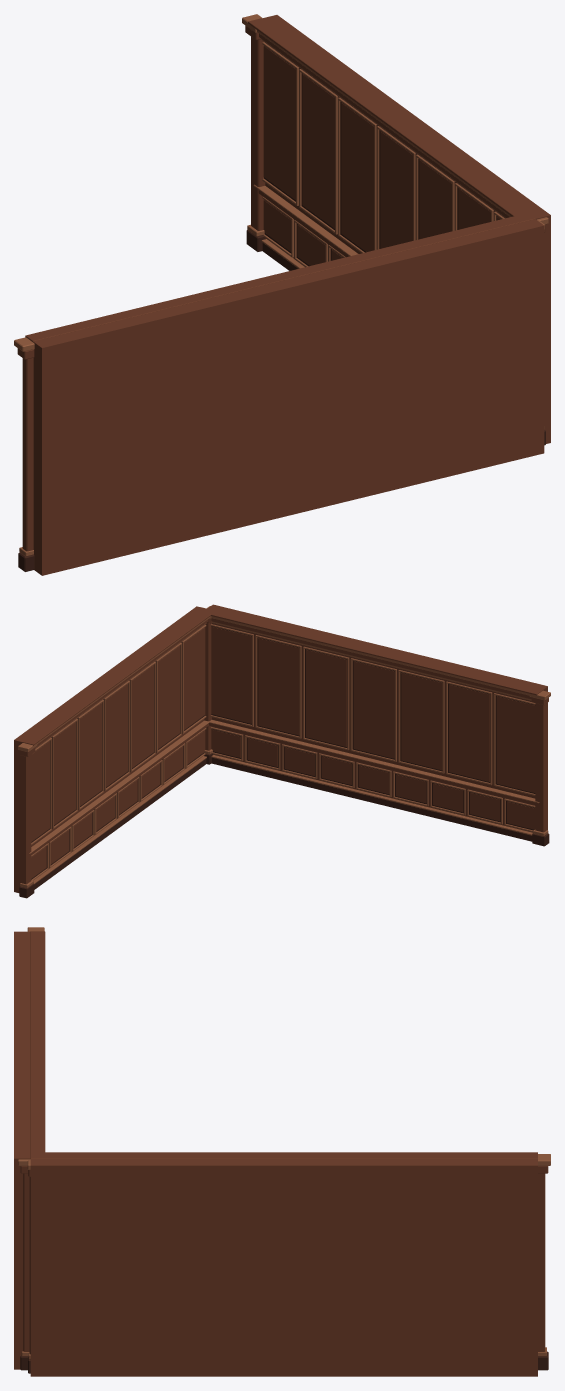
Rendered from clinic_complete_shell.glb.
3 views of the same model, one above another, from view 1: azimuth 30°, elevation 25°; view 2: azimuth 150°, elevation 25°; view 3: azimuth 270°, elevation 25° (orthographic). The views are drawn at different scales.
Visible parts, largest first — view 1: clinic_front_Wall_Solid_00, clinic_right_Wall_Solid_00, clinic_right_Wall_UpperPanel_00_0_1_Field, clinic_right_Wall_UpperPanel_00_0_0_Field, clinic_right_Wall_UpperPanel_00_0_2_Field, clinic_front_Wall_Cornice_00_3_0, clinic_right_Wall_Cornice_00_3_0, clinic_right_Wall_UpperPanel_00_0_3_Field, Pilaster_Shaft_004, Pilaster_Shaft_009, clinic_right_Wall_UpperPanel_00_0_4_Field, clinic_right_Wall_Cornice_00_1_0 (+4 smaller); view 2: clinic_front_Wall_Solid_00, clinic_front_Wall_UpperPanel_00_0_3_Field, clinic_front_Wall_UpperPanel_00_0_1_Field, clinic_front_Wall_UpperPanel_00_0_4_Field, clinic_front_Wall_UpperPanel_00_0_2_Field, clinic_front_Wall_UpperPanel_00_0_0_Field, clinic_front_Wall_UpperPanel_00_0_5_Field, clinic_right_Wall_Solid_00, clinic_front_Wall_UpperPanel_00_0_6_Field, clinic_front_Wall_Cornice_00_3_0, clinic_front_Wall_Skirting_00_0, clinic_right_Wall_UpperPanel_00_0_2_Field (+43 smaller); view 3: clinic_right_Wall_Solid_00, clinic_front_Wall_Solid_00, clinic_front_Wall_Cornice_00_3_0, clinic_right_Wall_Cornice_00_3_0, Pilaster_Shaft_004, Pilaster_Shaft_005.
Boxes of the visible parts, x1=… form: clinic_front_Wall_Solid_00: x1=33, y1=219, x2=544, y2=575; clinic_right_Wall_Solid_00: x1=262, y1=15, x2=550, y2=443; clinic_right_Wall_UpperPanel_00_0_1_Field: x1=302, y1=74, x2=334, y2=228; clinic_right_Wall_UpperPanel_00_0_0_Field: x1=263, y1=46, x2=295, y2=199; clinic_right_Wall_UpperPanel_00_0_2_Field: x1=341, y1=103, x2=373, y2=251; clinic_front_Wall_Cornice_00_3_0: x1=25, y1=215, x2=534, y2=341; clinic_right_Wall_Cornice_00_3_0: x1=248, y1=18, x2=534, y2=221; clinic_right_Wall_UpperPanel_00_0_3_Field: x1=380, y1=131, x2=412, y2=248; Pilaster_Shaft_004: x1=251, y1=36, x2=265, y2=230; Pilaster_Shaft_009: x1=22, y1=357, x2=33, y2=551; clinic_right_Wall_UpperPanel_00_0_4_Field: x1=419, y1=160, x2=451, y2=239; clinic_right_Wall_Cornice_00_1_0: x1=259, y1=33, x2=509, y2=217; clinic_front_Wall_Solid_00: x1=207, y1=604, x2=547, y2=832; clinic_front_Wall_UpperPanel_00_0_3_Field: x1=353, y1=661, x2=394, y2=758; clinic_front_Wall_UpperPanel_00_0_1_Field: x1=258, y1=638, x2=299, y2=735; clinic_front_Wall_UpperPanel_00_0_4_Field: x1=401, y1=673, x2=442, y2=770; clinic_front_Wall_UpperPanel_00_0_2_Field: x1=306, y1=649, x2=346, y2=746; clinic_front_Wall_UpperPanel_00_0_0_Field: x1=211, y1=626, x2=251, y2=723; clinic_front_Wall_UpperPanel_00_0_5_Field: x1=449, y1=684, x2=489, y2=781; clinic_right_Wall_Solid_00: x1=14, y1=606, x2=206, y2=892; clinic_front_Wall_UpperPanel_00_0_6_Field: x1=496, y1=696, x2=535, y2=792; clinic_front_Wall_Cornice_00_3_0: x1=203, y1=608, x2=541, y2=695; clinic_front_Wall_Skirting_00_0: x1=211, y1=757, x2=532, y2=841; clinic_right_Wall_UpperPanel_00_0_2_Field: x1=80, y1=703, x2=101, y2=805; clinic_right_Wall_Solid_00: x1=30, y1=1158, x2=537, y2=1376; clinic_front_Wall_Solid_00: x1=14, y1=931, x2=30, y2=1369; clinic_front_Wall_Cornice_00_3_0: x1=30, y1=931, x2=45, y2=1157; clinic_right_Wall_Cornice_00_3_0: x1=31, y1=1152, x2=537, y2=1158; Pilaster_Shaft_004: x1=538, y1=1173, x2=545, y2=1351; Pilaster_Shaft_005: x1=23, y1=1173, x2=29, y2=1351.
Bounding box in the file's own units: 9.5 × 3.91 × 9.
